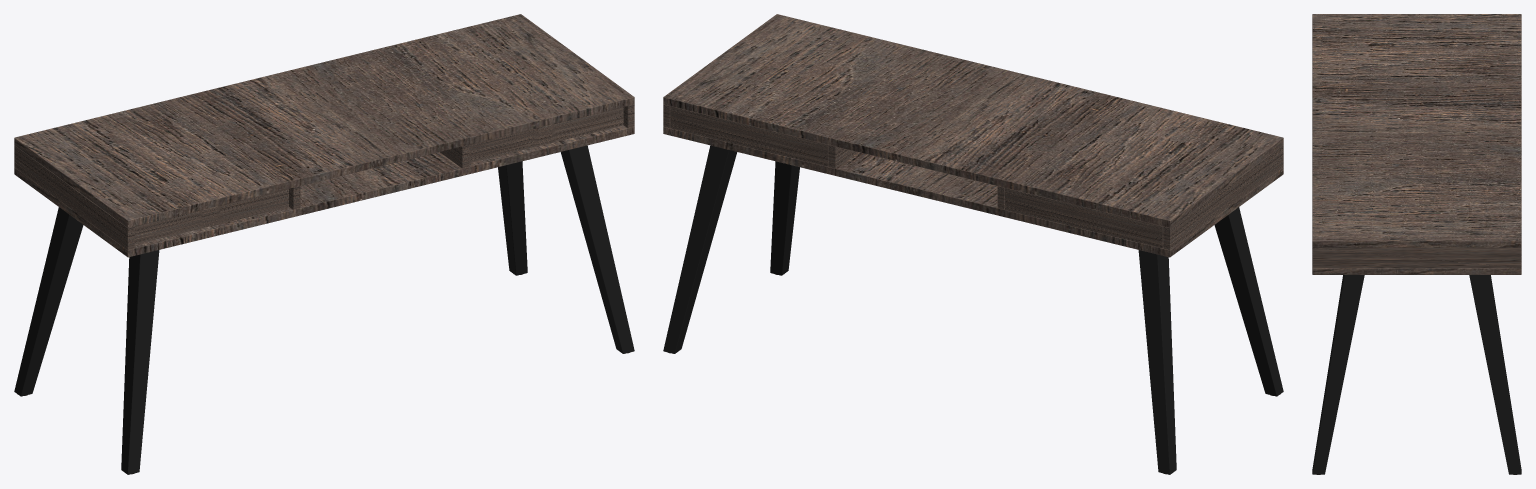
Rendered from desk.fbx.
3 renders of one model, left to right at view 1: azimuth 30°, elevation 25°; view 2: azimuth 150°, elevation 25°; view 3: azimuth 270°, elevation 25°, orthographic. The views are drawn at different scales.
Parts seen in each view (by area): view 1: Oak Desk.001; view 2: Oak Desk.001; view 3: Oak Desk.001.
Part boxes in pixels (box(x1,y1,x2,y2)): Oak Desk.001: box(14, 14, 634, 474); Oak Desk.001: box(663, 14, 1283, 474); Oak Desk.001: box(1312, 14, 1521, 474).
Bounding box in the file's own units: 180 × 86.45 × 70.
5 materials, 1 textured.
